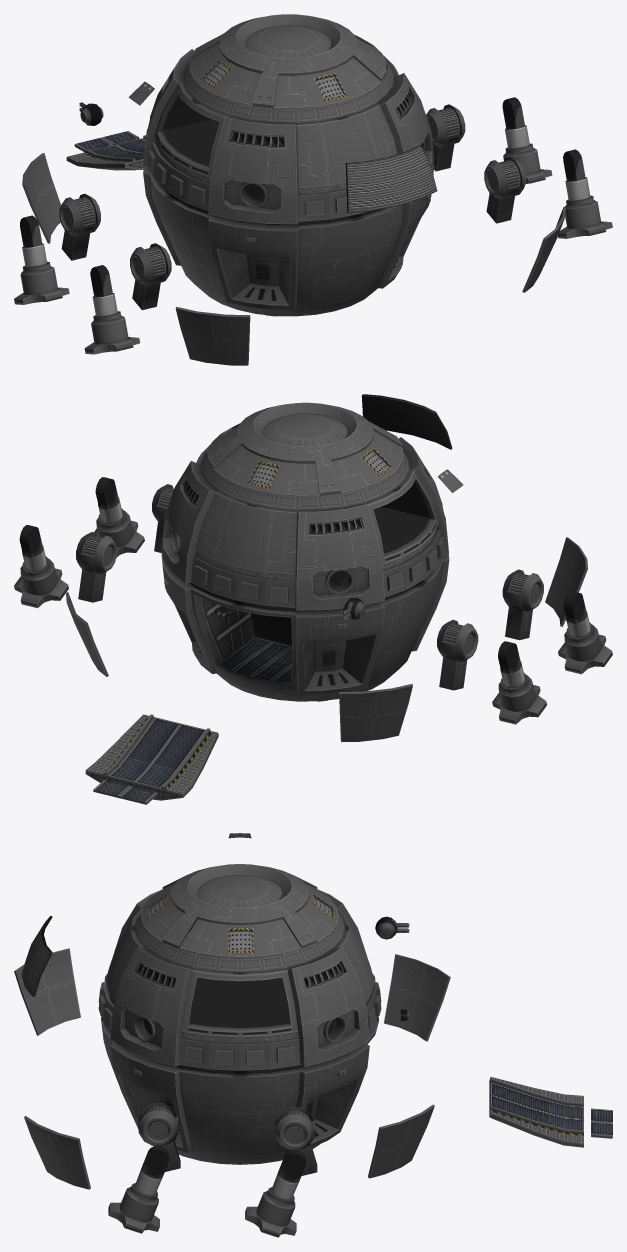
File: Union_ex.FBX
3 renders of one model, top to bottom at view 1: azimuth 30°, elevation 25°; view 2: azimuth 150°, elevation 25°; view 3: azimuth 270°, elevation 25°, orthographic.
Visible parts, largest first — view 1: hull, hanger_doors, gear2_door, gear2, gear1, gear3, gear1_door, gear3_joint, gear2_joint, gear1_joint, gear4, main_door (+3 smaller); view 2: hull, main_door, gear1_door, hanger_doors, gear2, gear4, gear1, gear3, gear4_joint, gear1_joint, gear2_joint, gear2_door (+3 smaller); view 3: hull, main_door, gear1_door, gear2_door, gear4, gear3, gear3_door, gear4_door, gear4_joint, gear3_joint, hanger_doors, ramp.
Boxes of the visible parts, box(x1,y1,x2,y2) form: hull: box(143, 14, 434, 316); hanger_doors: box(345, 145, 437, 212); gear2_door: box(175, 306, 250, 365); gear2: box(84, 265, 139, 354); gear1: box(14, 215, 69, 304); gear3: box(558, 149, 612, 238); gear1_door: box(22, 153, 60, 243); gear3_joint: box(484, 156, 525, 223); gear2_joint: box(130, 243, 171, 310); gear1_joint: box(59, 193, 100, 260); gear4: box(502, 97, 552, 183); main_door: box(66, 135, 146, 170); hull: box(161, 402, 449, 701); main_door: box(85, 714, 218, 800); gear1_door: box(339, 683, 412, 742); hanger_doors: box(361, 394, 452, 449); gear2: box(558, 591, 612, 674); gear4: box(14, 525, 68, 608); gear1: box(492, 641, 546, 724); gear3: box(94, 477, 144, 557); gear4_joint: box(76, 532, 117, 602); gear1_joint: box(437, 619, 478, 690); gear2_joint: box(502, 569, 543, 640); gear2_door: box(545, 537, 587, 626); hull: box(98, 864, 381, 1164); main_door: box(489, 1077, 583, 1147); gear1_door: box(384, 954, 450, 1041); gear2_door: box(14, 948, 80, 1035); gear4: box(245, 1149, 305, 1237); gear3: box(108, 1145, 169, 1233); gear3_door: box(24, 1116, 90, 1189); gear4_door: box(368, 1104, 434, 1178); gear4_joint: box(275, 1107, 317, 1175); gear3_joint: box(138, 1103, 180, 1171); hanger_doors: box(21, 916, 52, 997); ramp: box(591, 1108, 612, 1138).
Bounding box in the file's own units: 533 × 249 × 525.
1 material, 1 textured.
